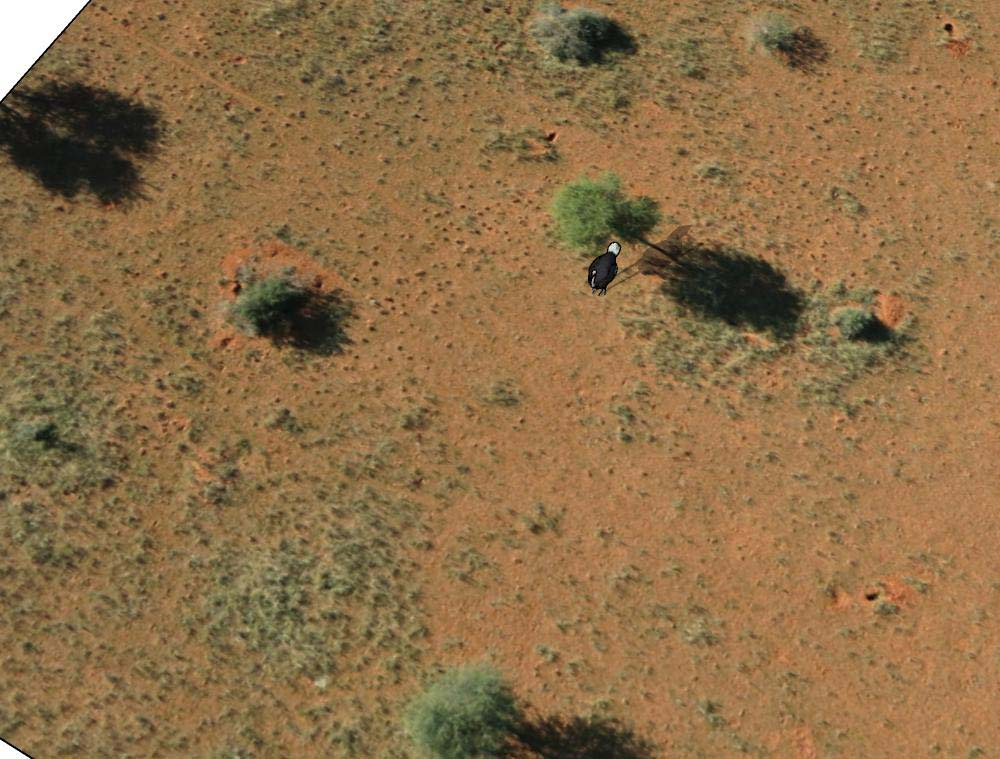ostrich: (578, 238, 625, 298)
